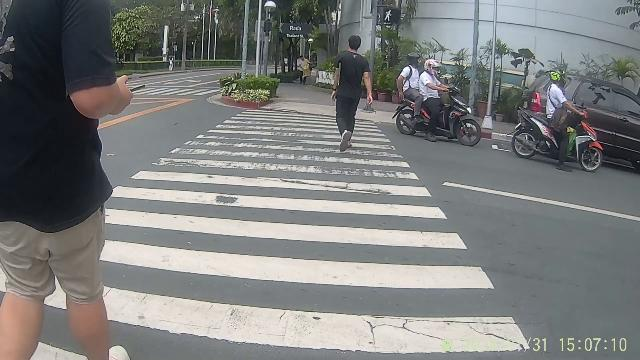street_sign: (274, 10, 312, 100)
